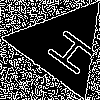H: (36, 21, 99, 78)
